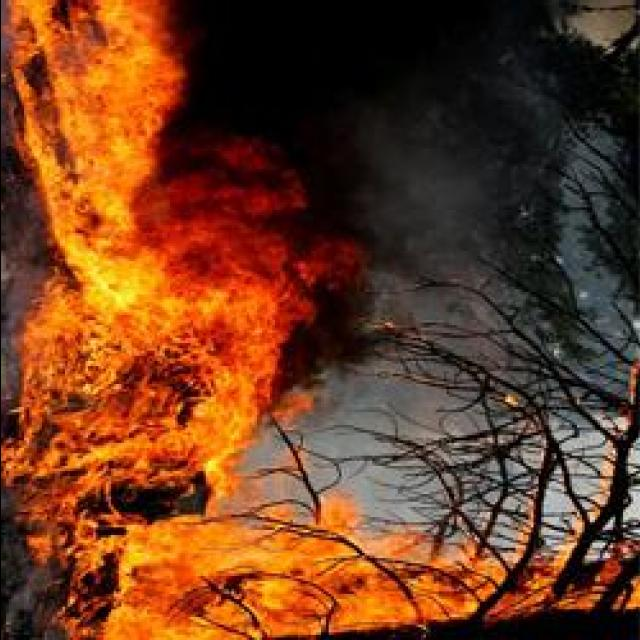fire: (105, 512, 490, 640), (52, 2, 182, 311), (6, 314, 248, 468)
smoke: (275, 46, 433, 240), (306, 288, 388, 374)
